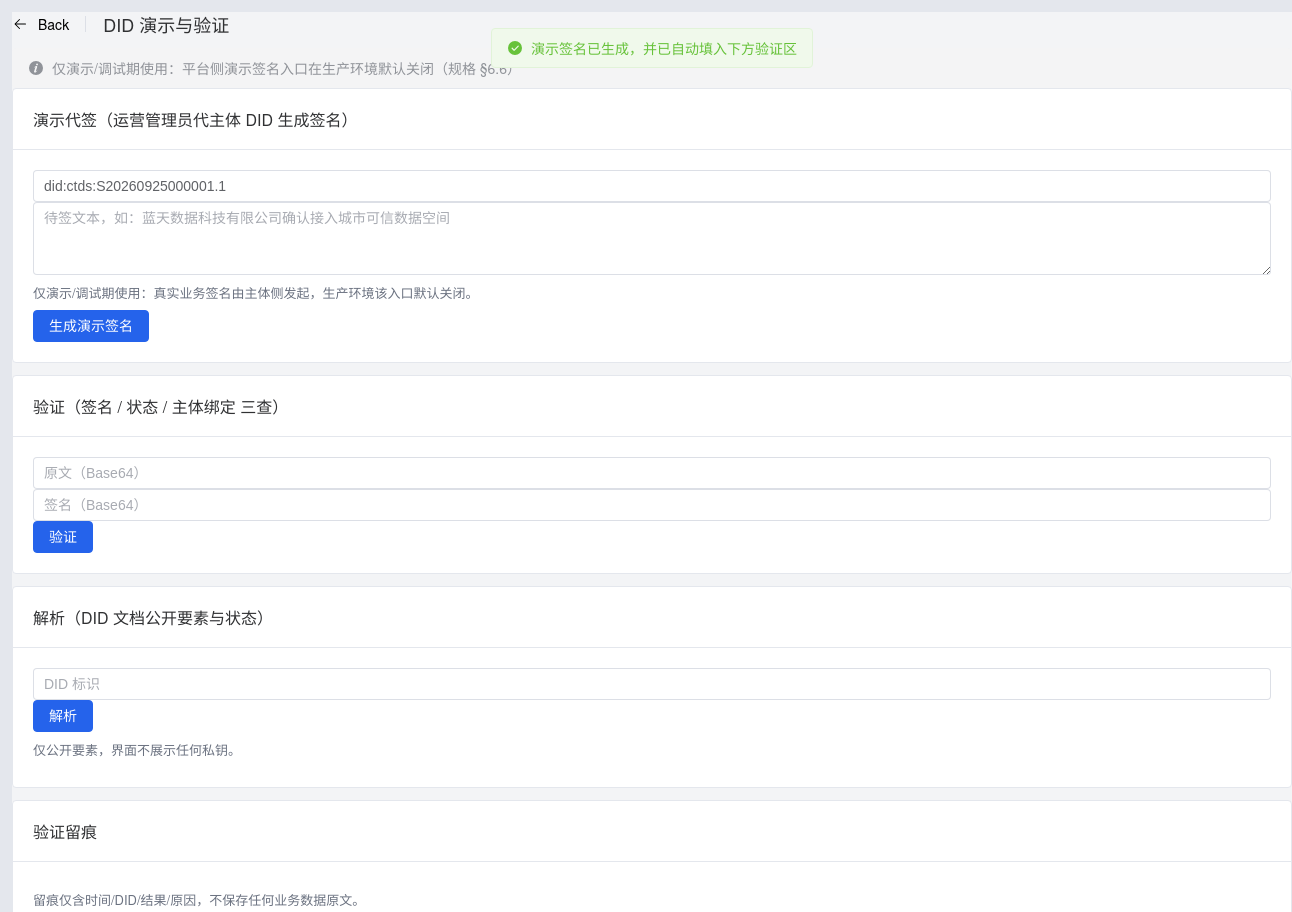
DID 演示与验证页（WBS-3.1.11 T14/T15） › 演示入口未启用（1000C0003）：以提示样式说明"仅演示/调试期"，不呈现为操作失败
The image size is (1292, 912).
In the text box with placeholder "待签文本，如：蓝天数据科技有限公司确认接入城市可信数据空间": (652, 238) [33,202,1271,275], type "确认文本"
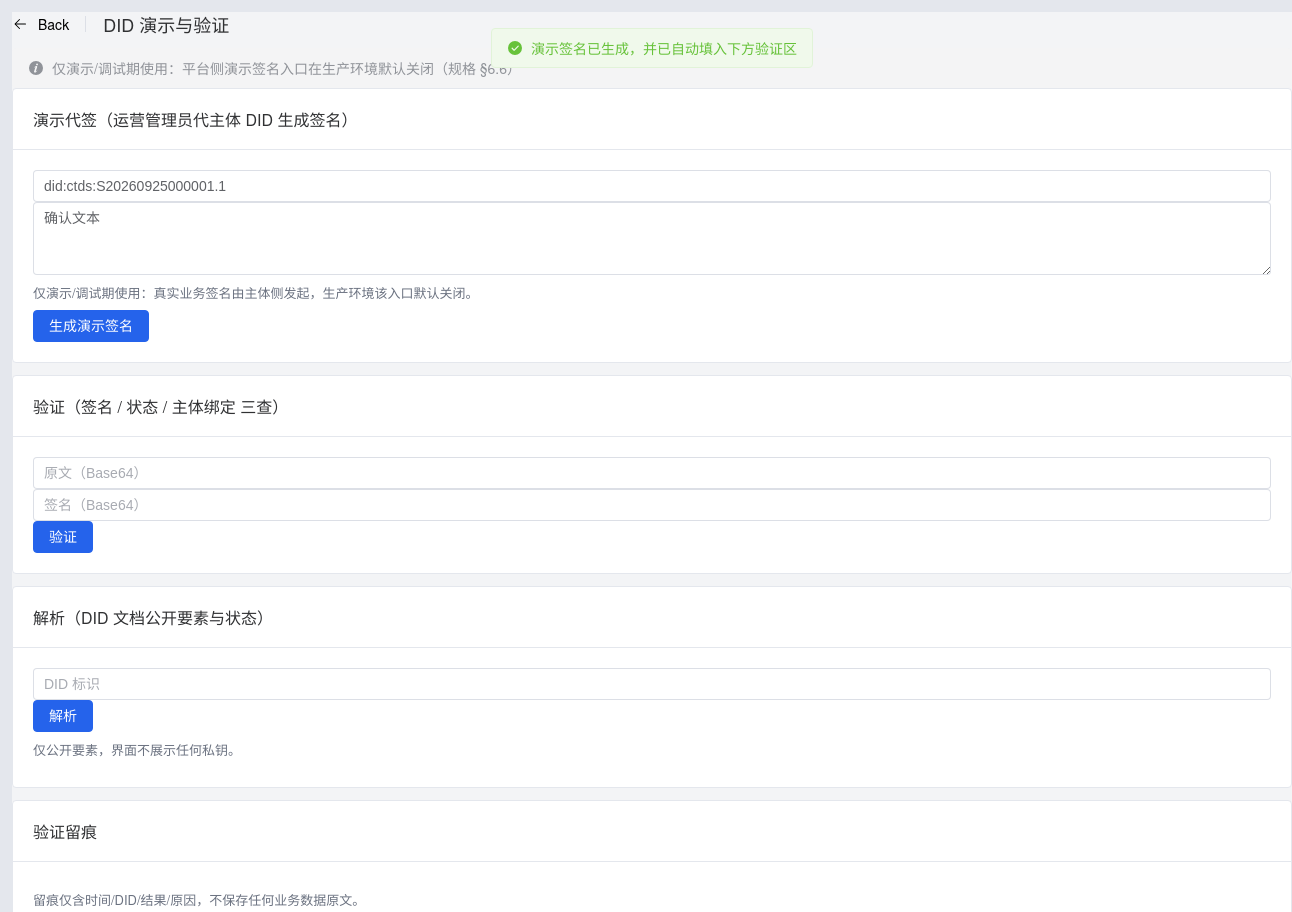
Click the button with class "demo-sign-btn": (91, 326) [33,310,149,342]
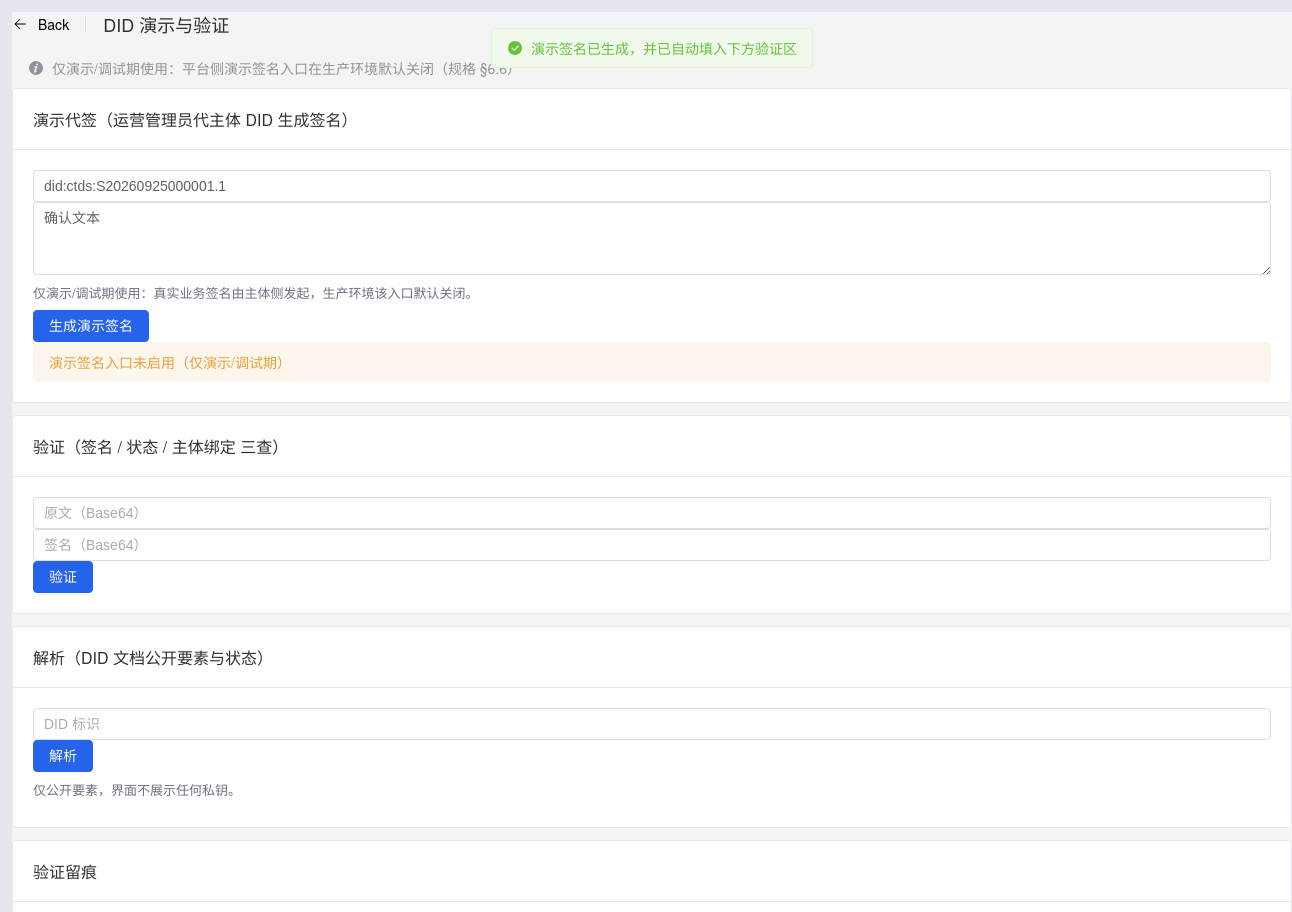
Expected: the element with class "demo-alert" is shown, [33,342,1271,382]
Expected: the element with class "demo-alert" reads "演示签名入口未启用（仅演示/调试期）", [49,352,291,372]
